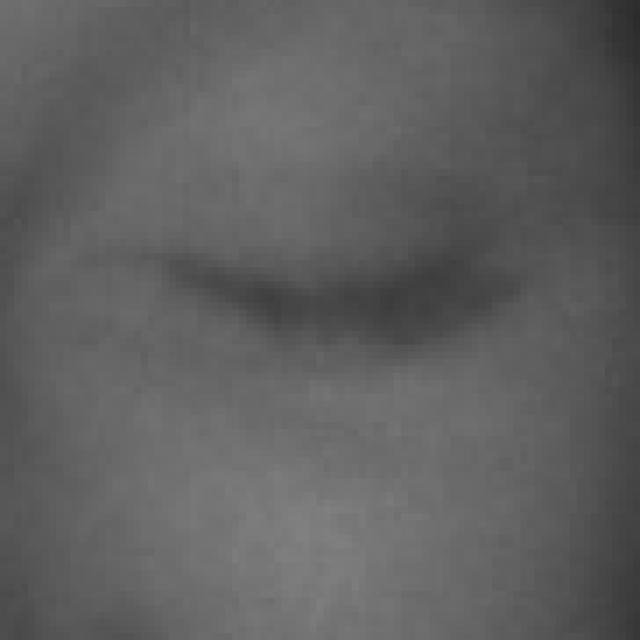Eyeclosed: (144, 136, 538, 486)
